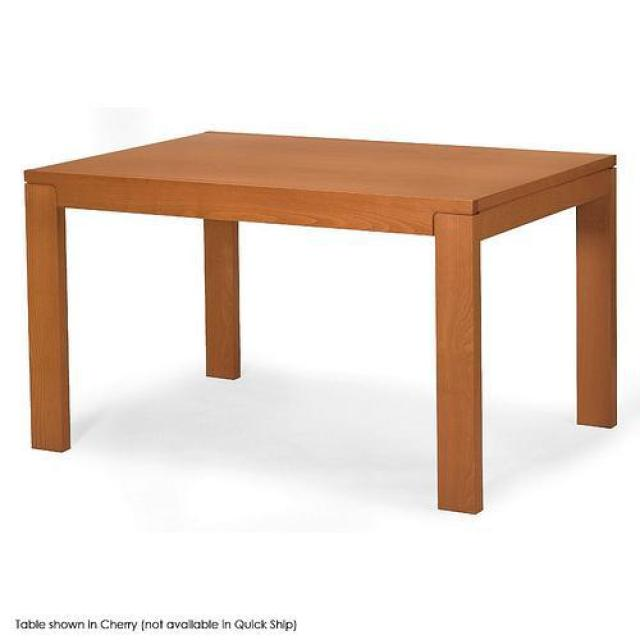table: (24, 132, 616, 517)
